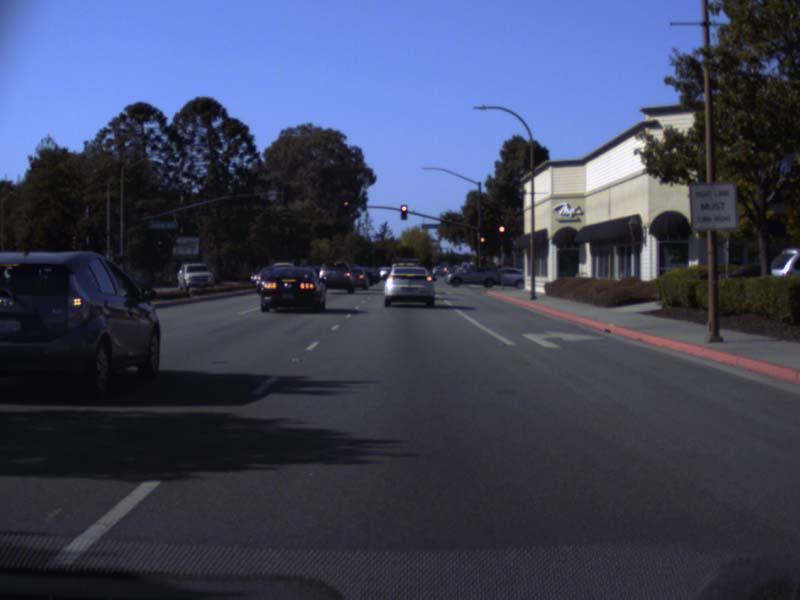Red: (497, 223, 505, 242), (341, 200, 349, 213), (400, 204, 406, 219), (479, 235, 485, 249), (157, 239, 161, 251)
Yellow: (480, 255, 484, 260)
